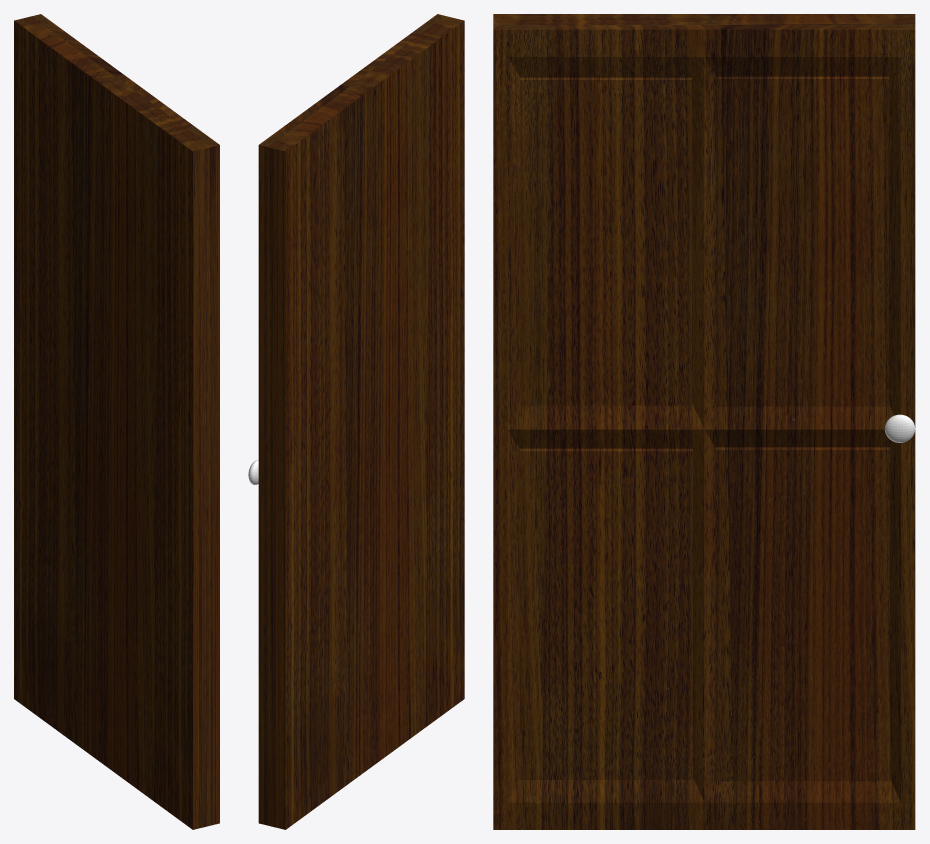
File: door.glb
3 renders of one model, left to right at view 1: azimuth 30°, elevation 25°; view 2: azimuth 150°, elevation 25°; view 3: azimuth 270°, elevation 25°, orthographic. The views are drawn at different scales.
Visible parts, largest first — view 1: Cube.001; view 2: Cube.001; view 3: Cube.001.
Part boxes in pixels (box(x1,y1,x2,y2)): Cube.001: box(14, 14, 219, 829); Cube.001: box(258, 14, 464, 829); Cube.001: box(493, 14, 915, 829).
Bounding box in the file's own units: 0.3057 × 4.85 × 2.32.
2 materials, 1 textured.
